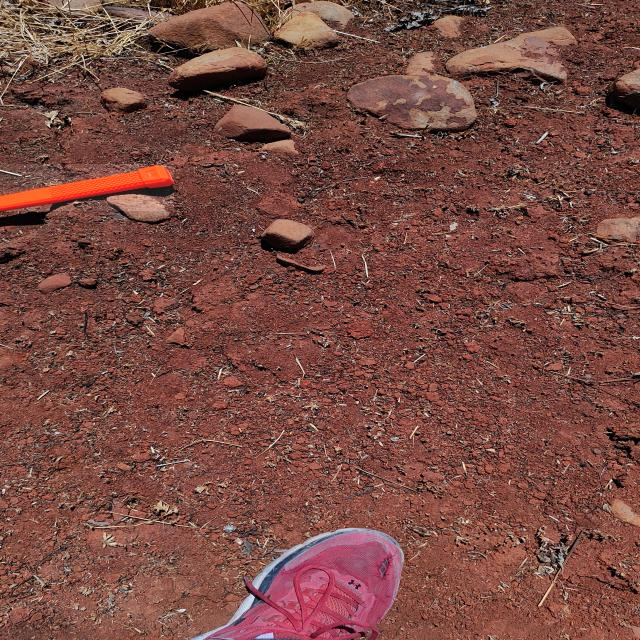Orange_hammer: (1, 164, 174, 211)
